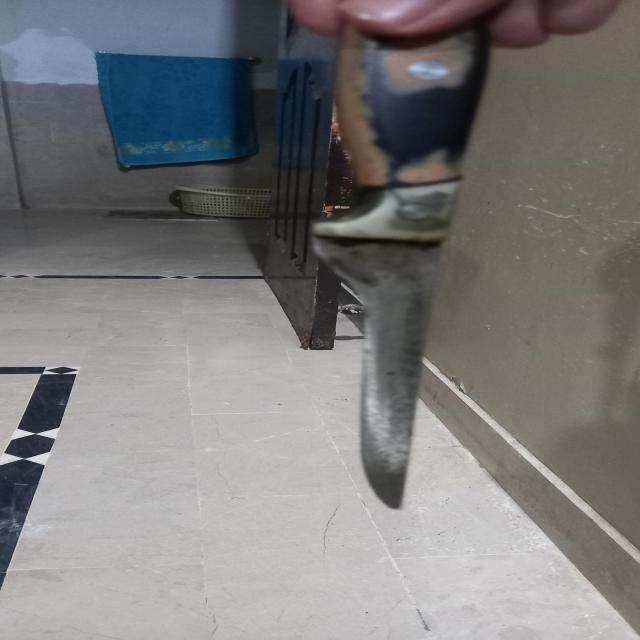faca: (320, 23, 490, 514)
